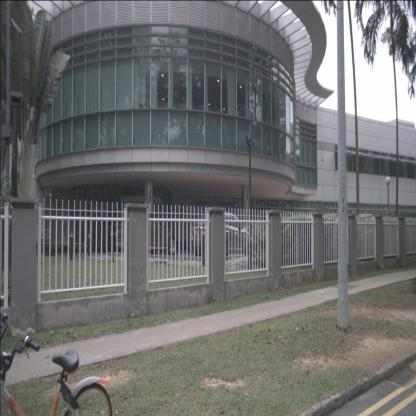vehicle-bicycle: (0, 308, 113, 416)
vehicle-car: (188, 213, 251, 258), (114, 210, 176, 255)
